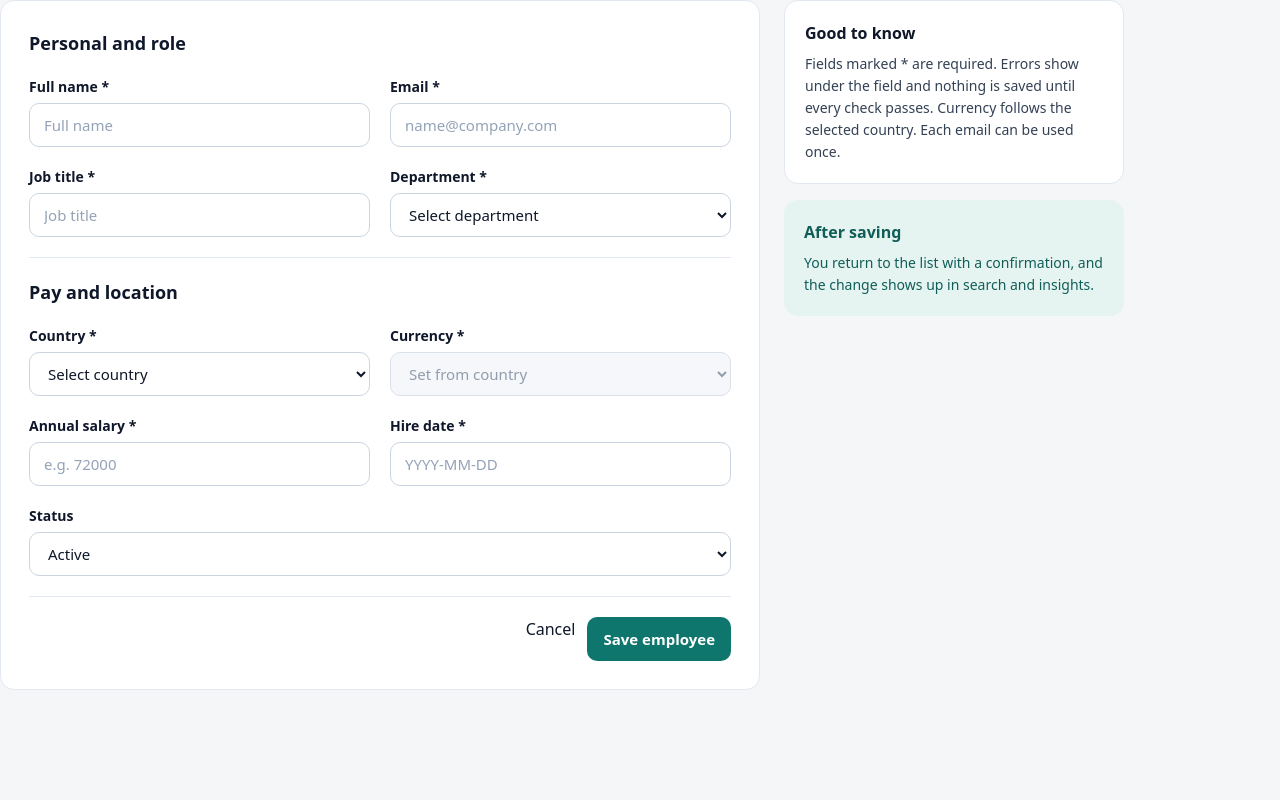
Test: EmployeeForm › clears a field's error once the user edits it
The width and height of the screenshot is (1280, 800).
Click the button "Save employee": (659, 639) [588,617,731,661]
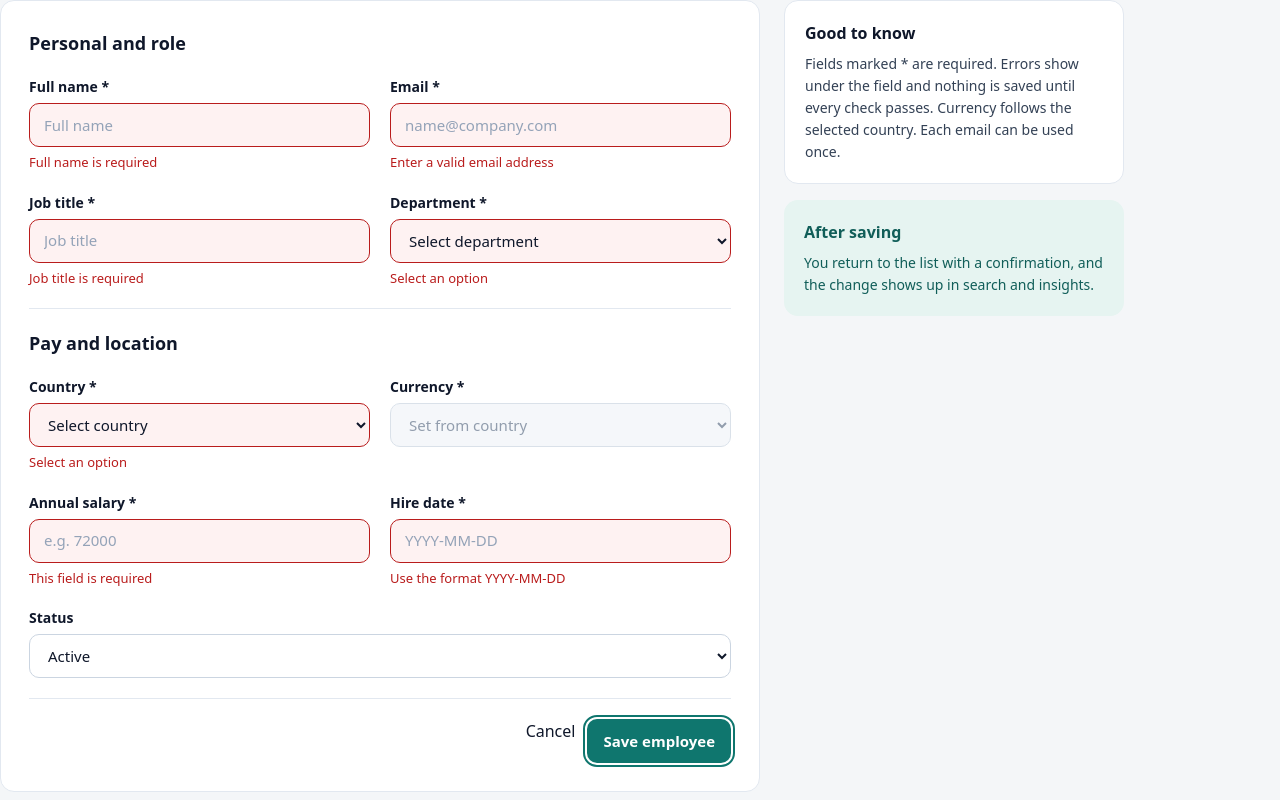
Check: the text "Full name is required" is shown, box [29,153,157,171]
In the field labelled "Full name *": (200, 125) [29,103,370,147], type "L"
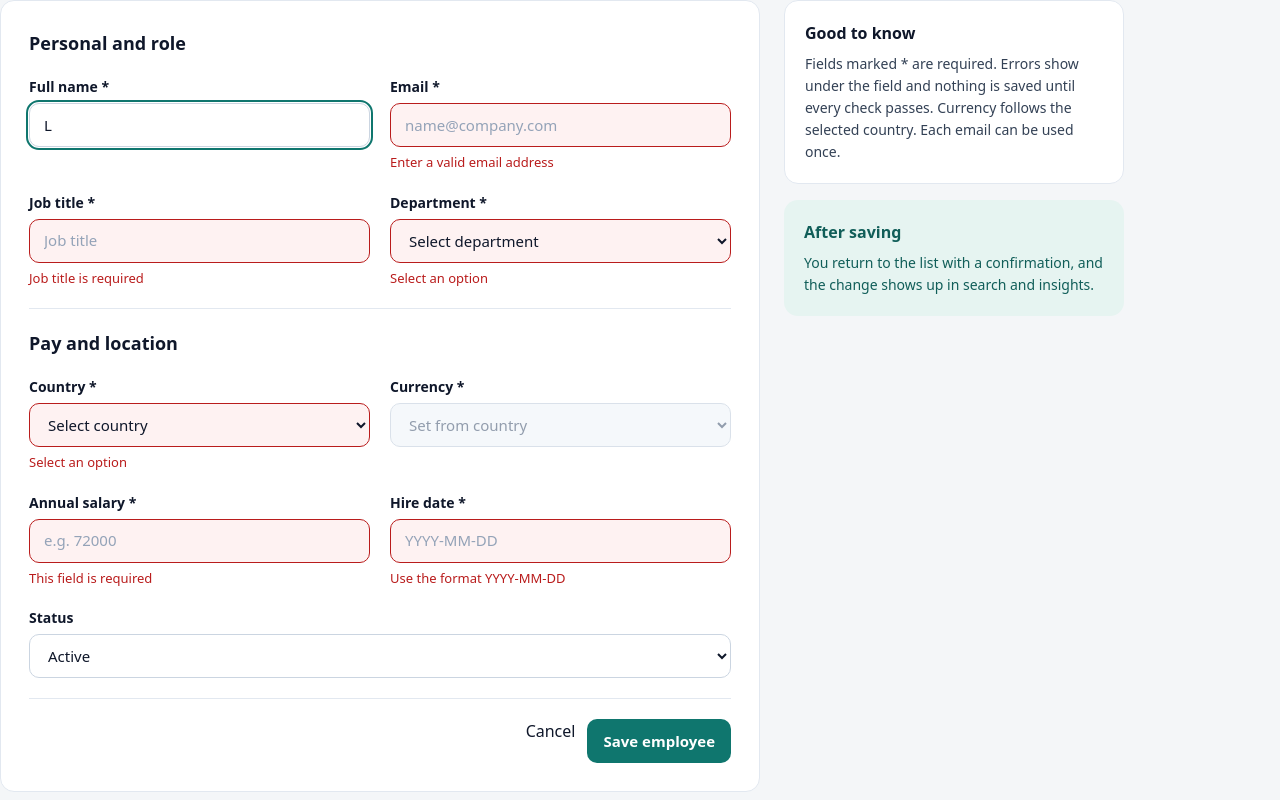
Check: the text "Full name is required" is gone
